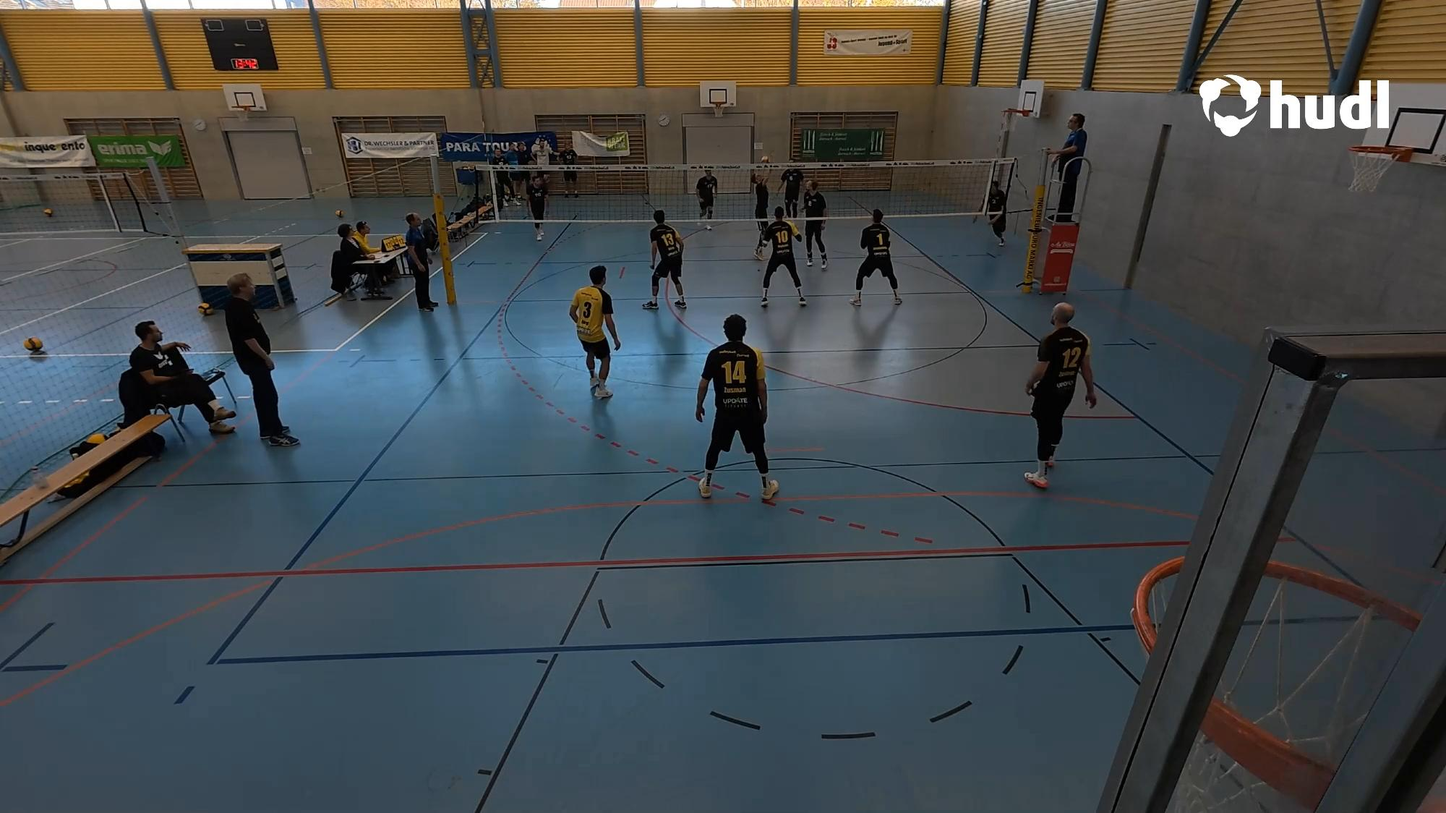alzata: (748, 157, 772, 259)
